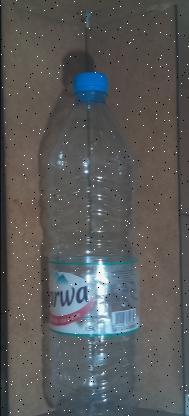Plastic Bottle: (47, 72, 141, 416)
